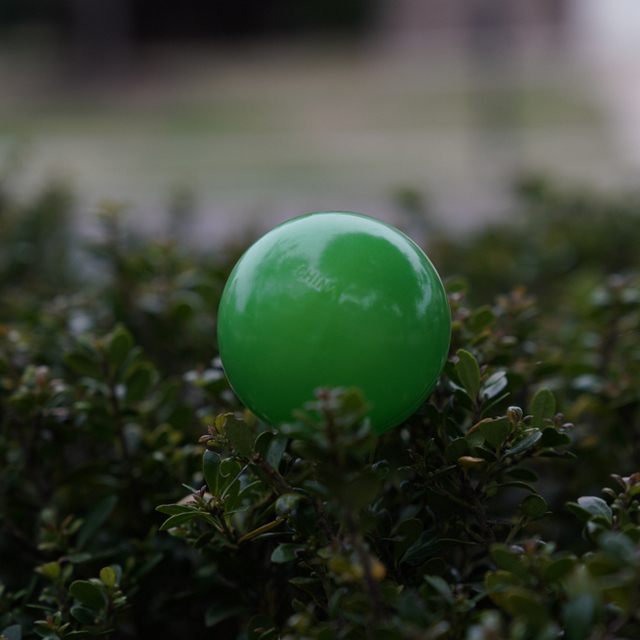Ball: (219, 215, 448, 442)
